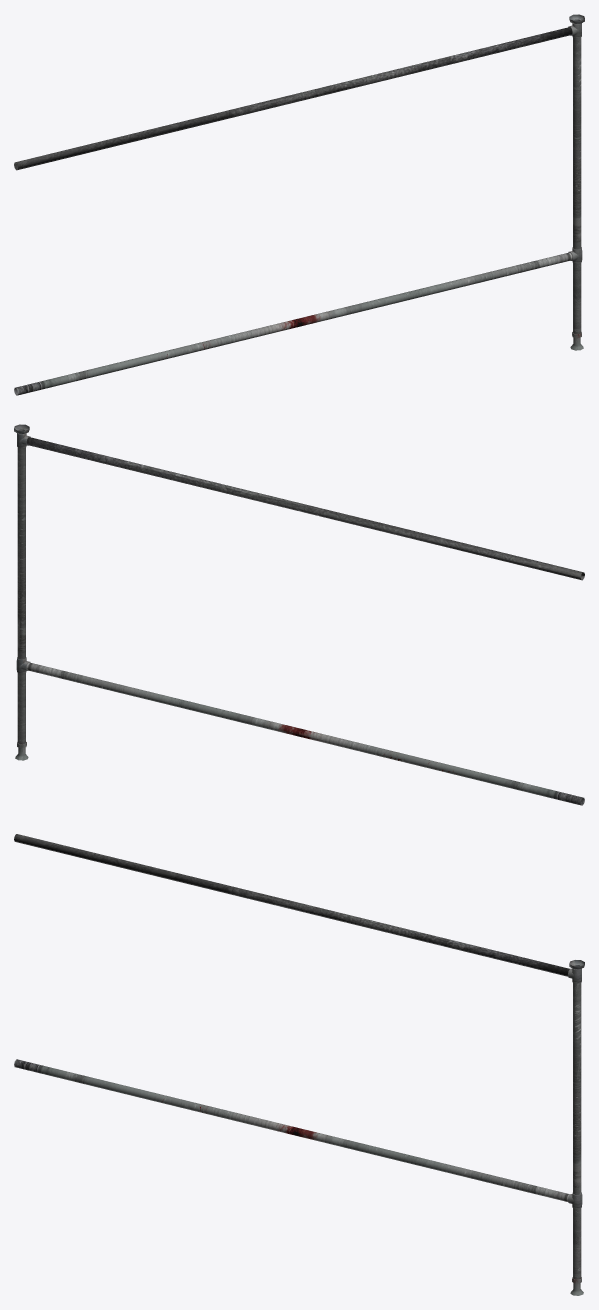
Rendered from tuyau1.fbx.
3 views of the same model, one above another, from view 1: azimuth 30°, elevation 25°; view 2: azimuth 150°, elevation 25°; view 3: azimuth 330°, elevation 25° (orthographic).
Visible parts, largest first — view 1: polySurface477; view 2: polySurface477; view 3: polySurface477.
Boxes of the visible parts, x1,y1,x2,y2 form: polySurface477: (14, 14, 584, 395); polySurface477: (14, 424, 584, 805); polySurface477: (14, 834, 584, 1295).
Bounding box in the file's own units: 503 × 279 × 12.45.
